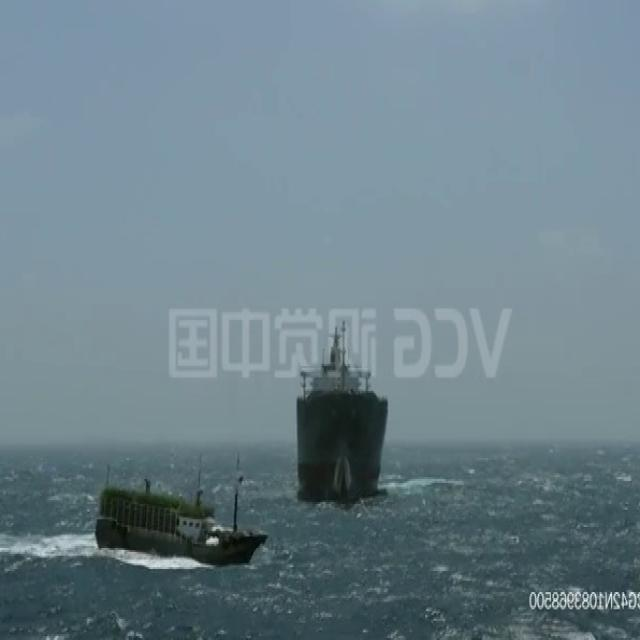cargoship: (295, 318, 391, 502)
fishing boat: (95, 475, 269, 565)
